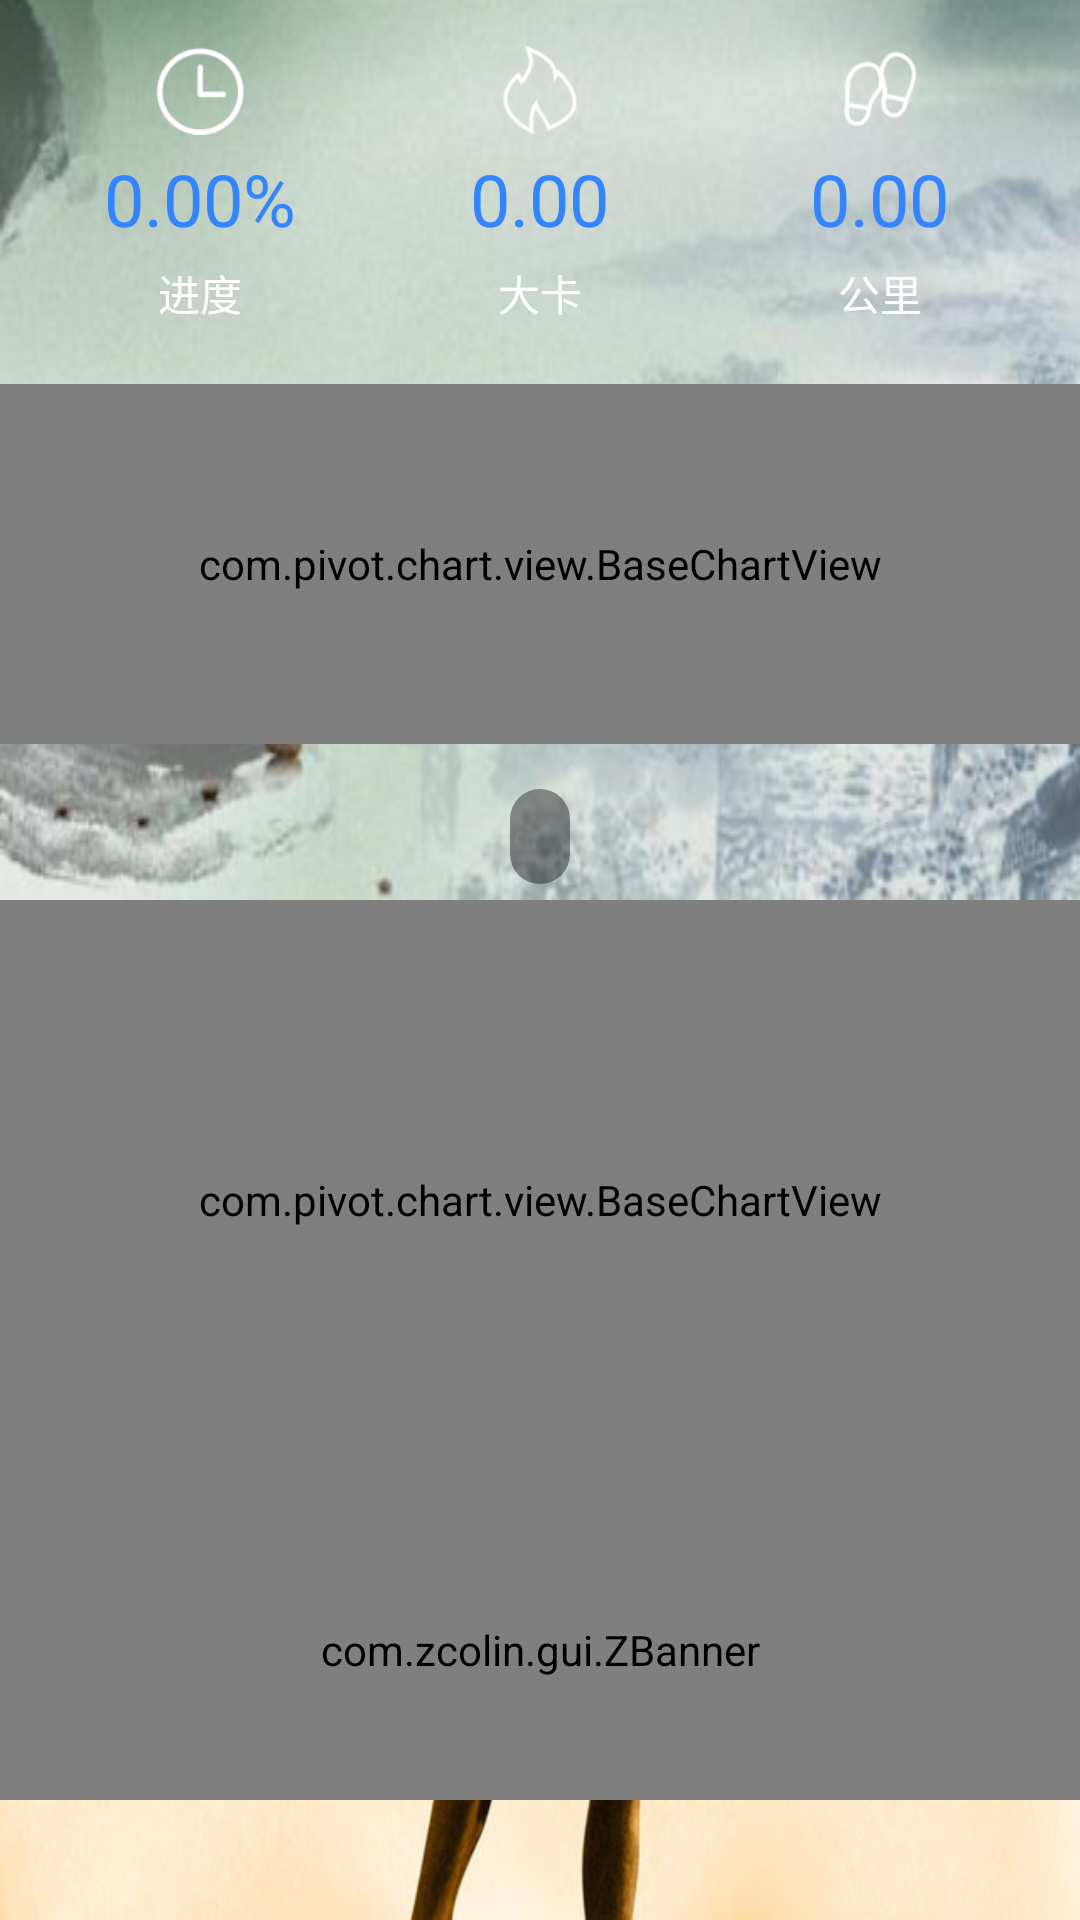

Screen size 1080×1920. Icon name, then its center in pixels as (x=x, y=y):
calorie: (x=540, y=90)
step: (x=880, y=89)
time: (x=200, y=90)
